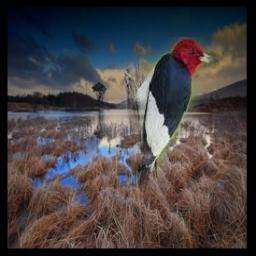Woodpecker: (124, 38, 220, 194)
